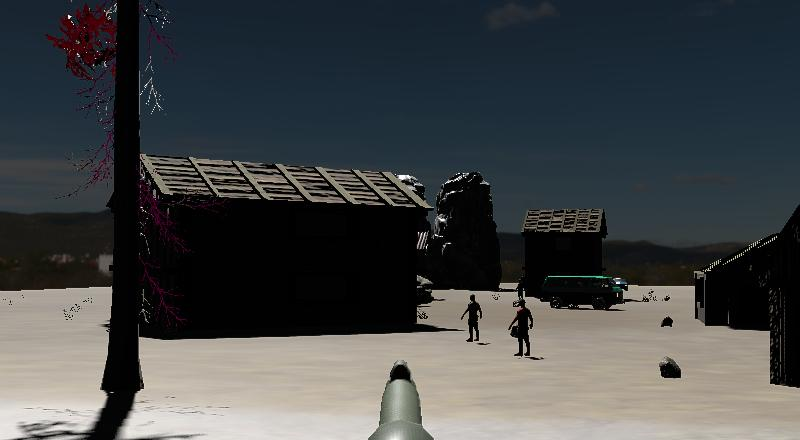car: (537, 272, 629, 313)
